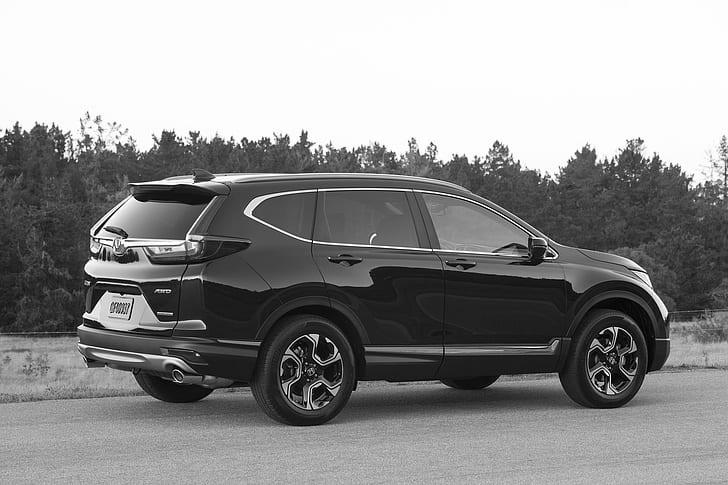Car boot: (82, 173, 195, 339)
Car hood: (575, 245, 648, 273)
Driver-s door - -F-R-: (434, 182, 560, 355)
Fender - -F-R-: (555, 236, 653, 372)
Fender - -R-R-: (231, 225, 336, 318)
Front bumper: (648, 303, 683, 377)
Headlight - -R-: (624, 268, 664, 291)
Passenger-s door - -R-R-: (311, 177, 446, 363)
Rear bumper: (72, 268, 275, 388)
Rear light - -L-: (76, 230, 104, 263)
Rear light - -R-: (139, 228, 258, 269)
Side bumper - -R-: (349, 335, 577, 384)
Side mirror - -R-: (523, 227, 552, 263)
